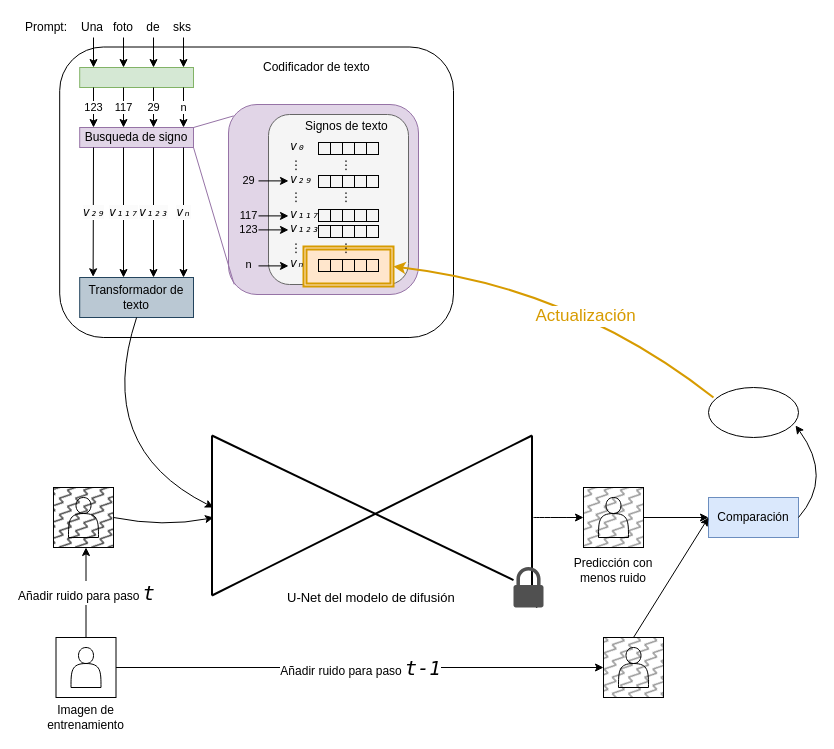
Some shapes in this 834 by 749 pixel diagram are drawn without their labels. The centre of each missing label's shape, as x and y in pixels:
Pérdida: the point at 753,412
Tokenizador: the point at 136,77
